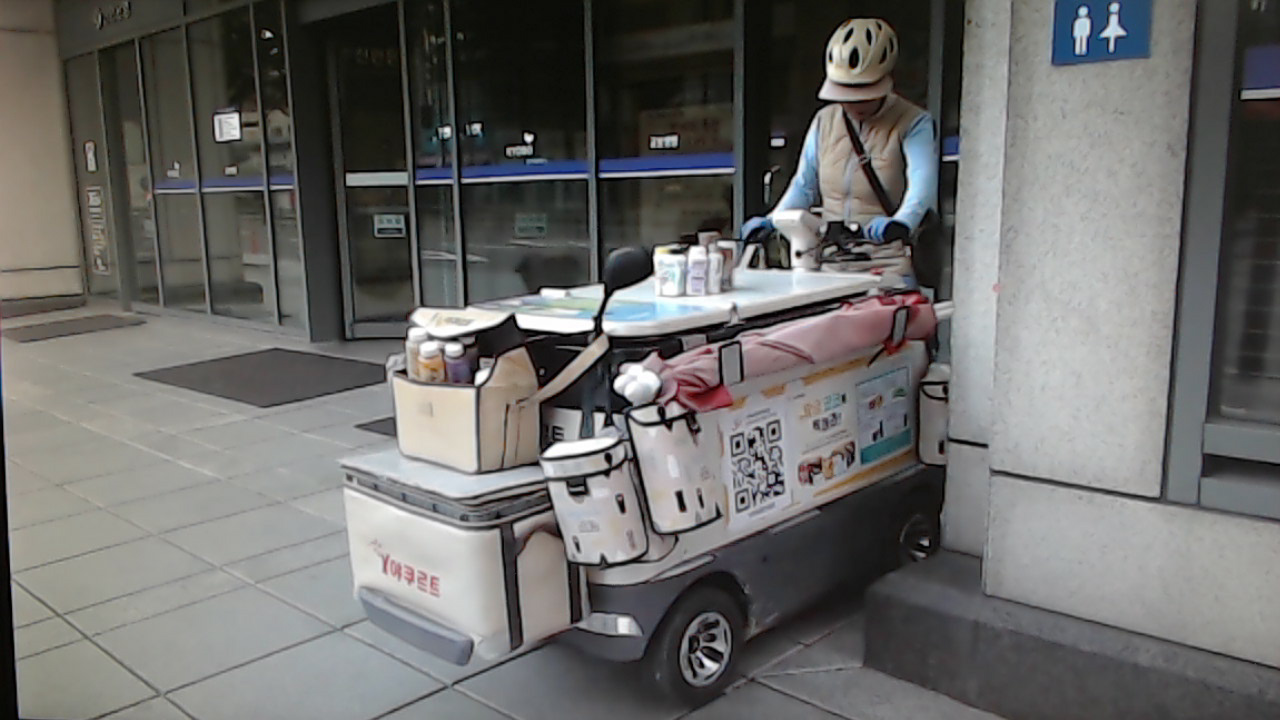Yakurut: (702, 13, 990, 313)
